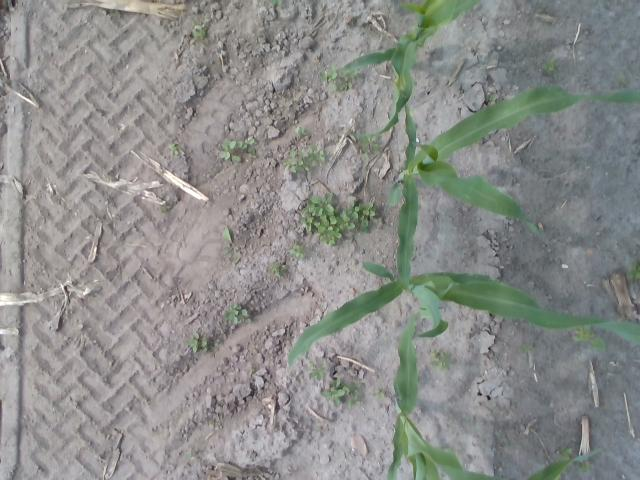Maize: (384, 87, 640, 283), (287, 262, 640, 368), (386, 314, 600, 480), (338, 0, 482, 138)
Weeds: (302, 192, 342, 246), (341, 201, 376, 231), (320, 378, 348, 406), (218, 138, 246, 162), (428, 348, 457, 370), (306, 356, 328, 380), (223, 304, 249, 324), (284, 151, 308, 172), (185, 333, 207, 352), (220, 228, 235, 254), (308, 146, 325, 166), (344, 380, 364, 396), (572, 328, 591, 342), (191, 20, 204, 38), (627, 262, 640, 280), (321, 65, 336, 80), (580, 460, 594, 474), (591, 338, 606, 351), (290, 244, 303, 257), (340, 77, 352, 91), (364, 138, 378, 150), (269, 262, 280, 276), (348, 396, 360, 408), (542, 63, 555, 74), (271, 0, 282, 11), (521, 344, 533, 354), (374, 389, 386, 398), (169, 144, 178, 154), (619, 72, 627, 83), (296, 126, 304, 134), (160, 204, 168, 211), (245, 140, 254, 146)
